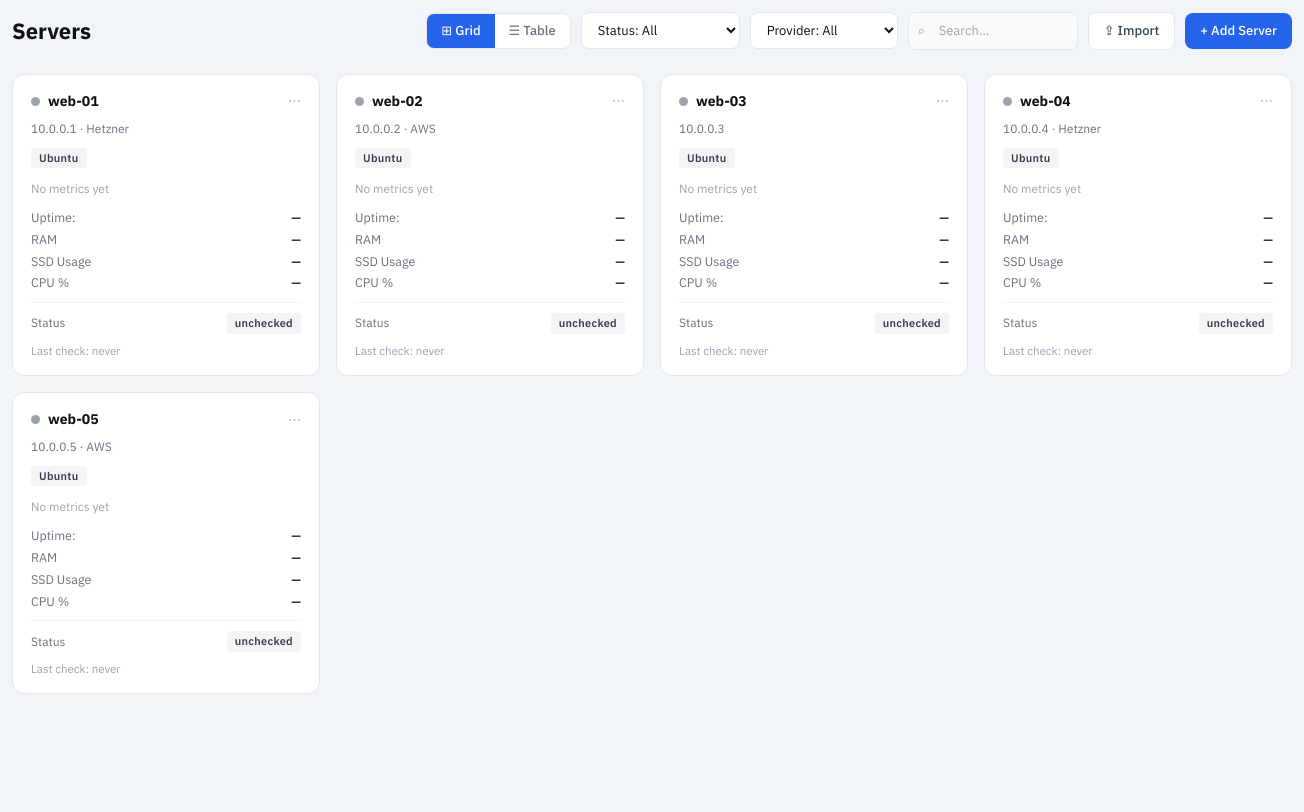
Test: Servers — колонка и фильтр по провайдеру › фильтр складывается с поиском, а не подменяет его
The image size is (1304, 812).
Click the button "☰ Table": {"x": 532, "y": 31} [495,14,570,48]
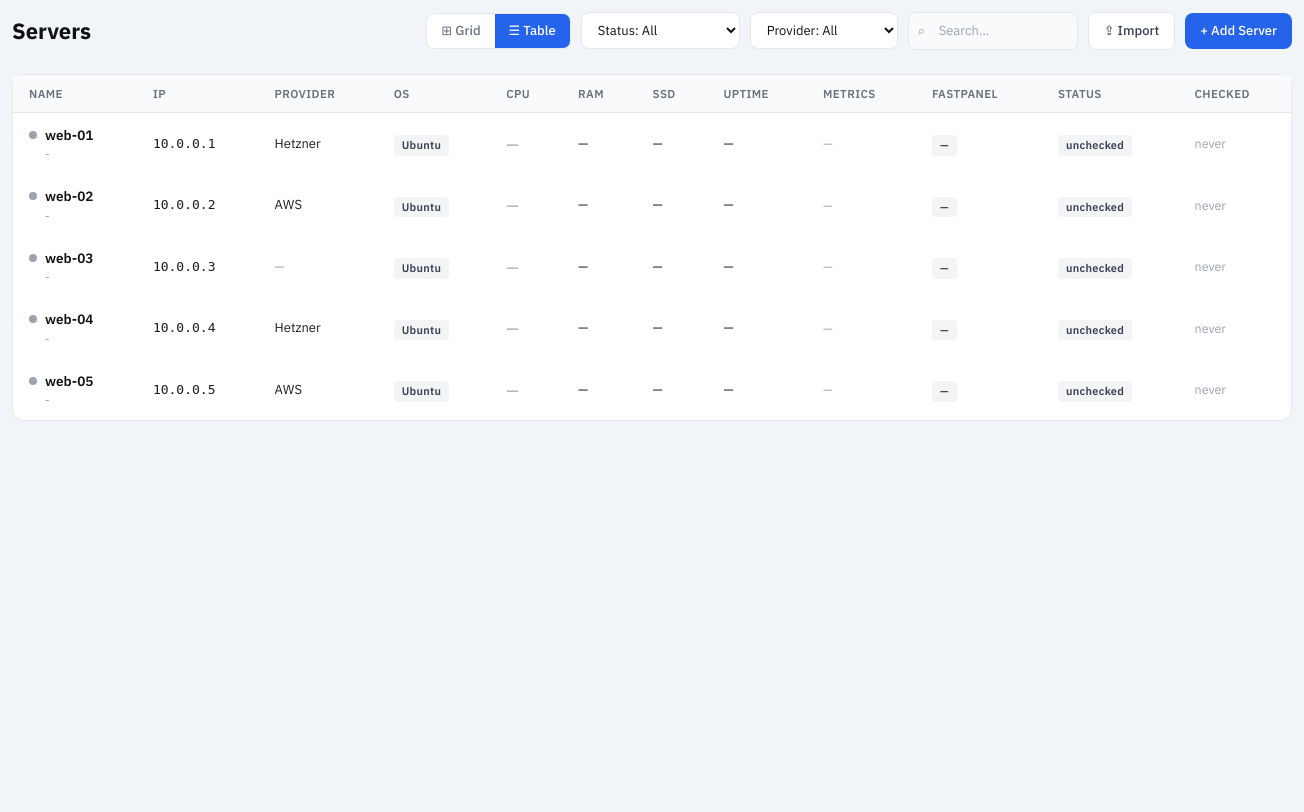
Select "Provider: Hetzner" in the dropdown named "Filter by hosting provider": {"x": 824, "y": 31} [750,12,898,49]
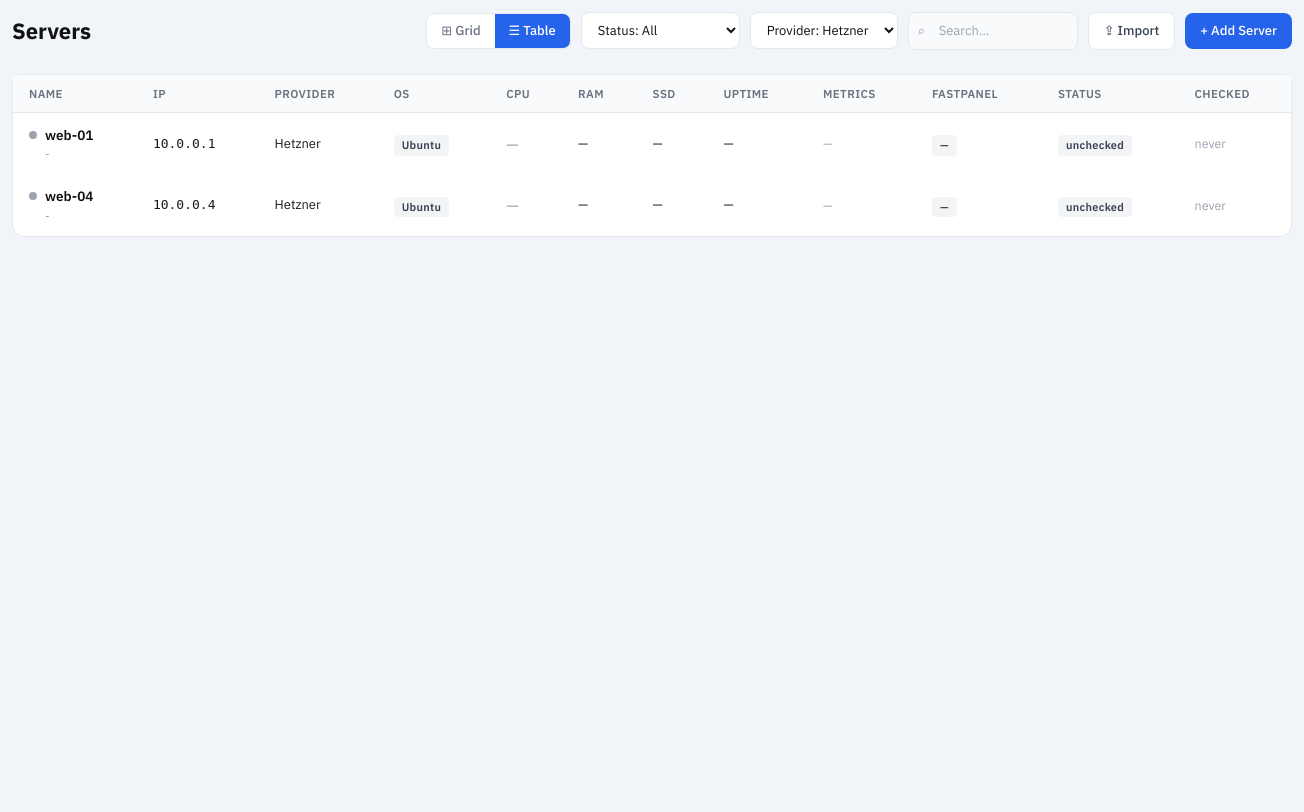
In the field with placeholder "Search…": {"x": 993, "y": 31} [908,12,1078,50], type "web-04"
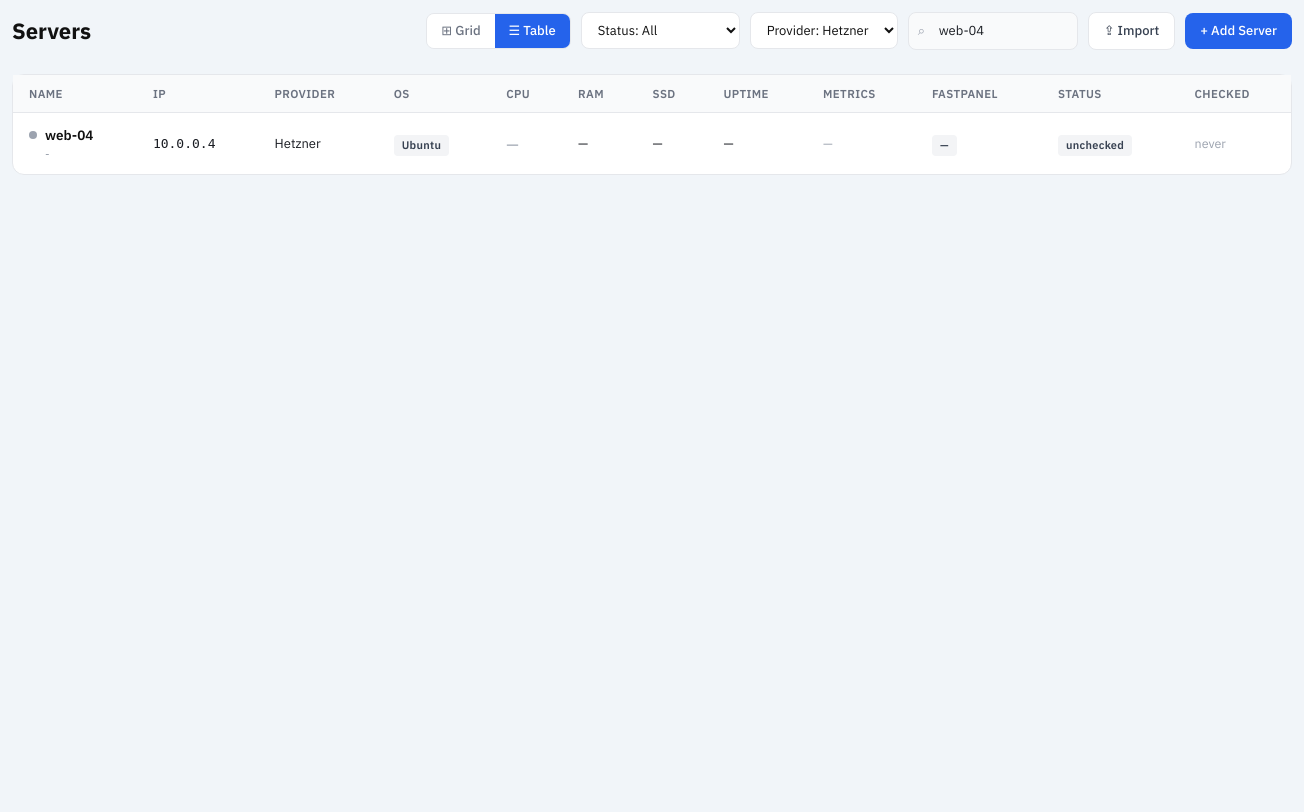
Replace the text in the field with placeholder "Search…" with "web-02": {"x": 993, "y": 31} [908,12,1078,50]
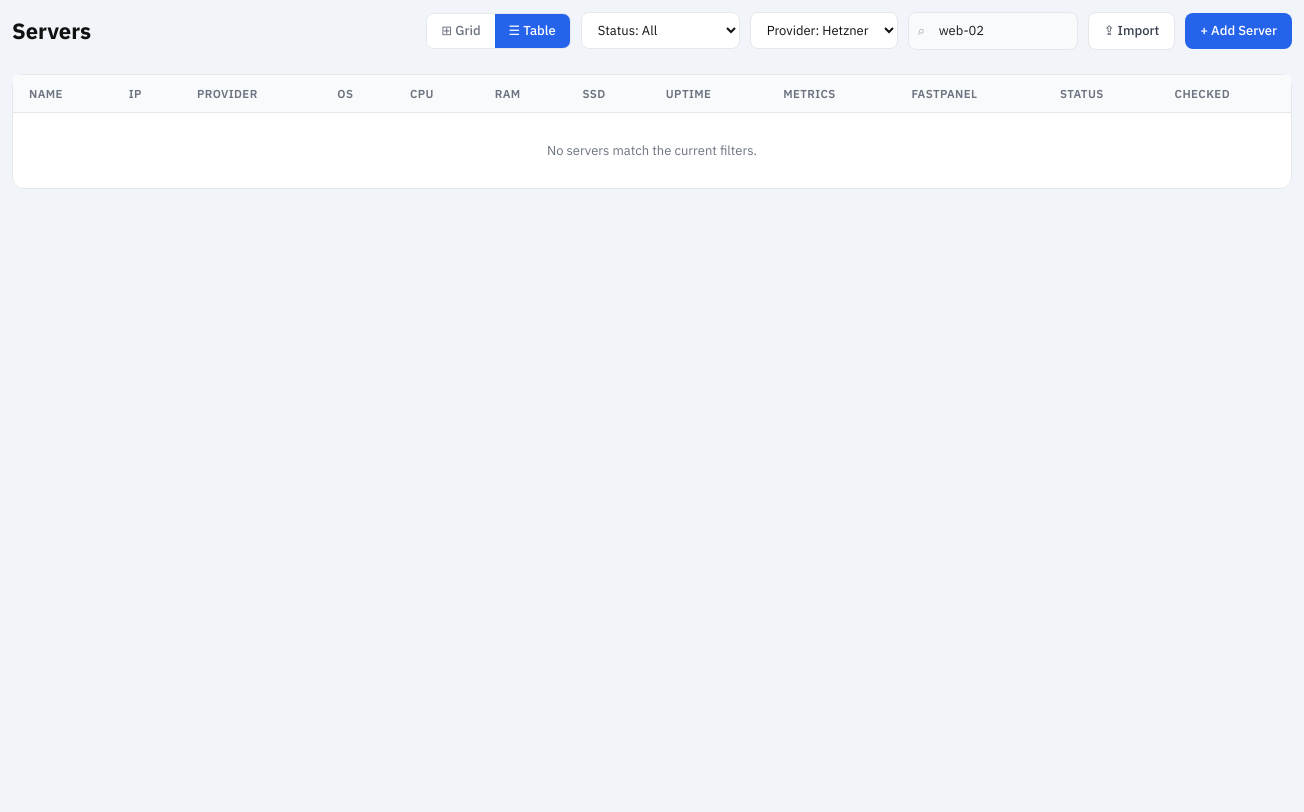
Check: the text "No servers match the current filters." is shown, box [13,112,1291,188]
